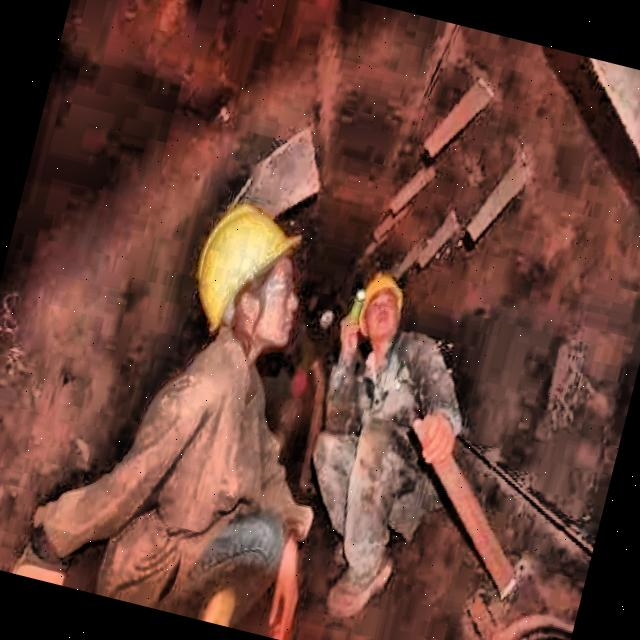helmet: (172, 180, 323, 376), (346, 262, 412, 360)
